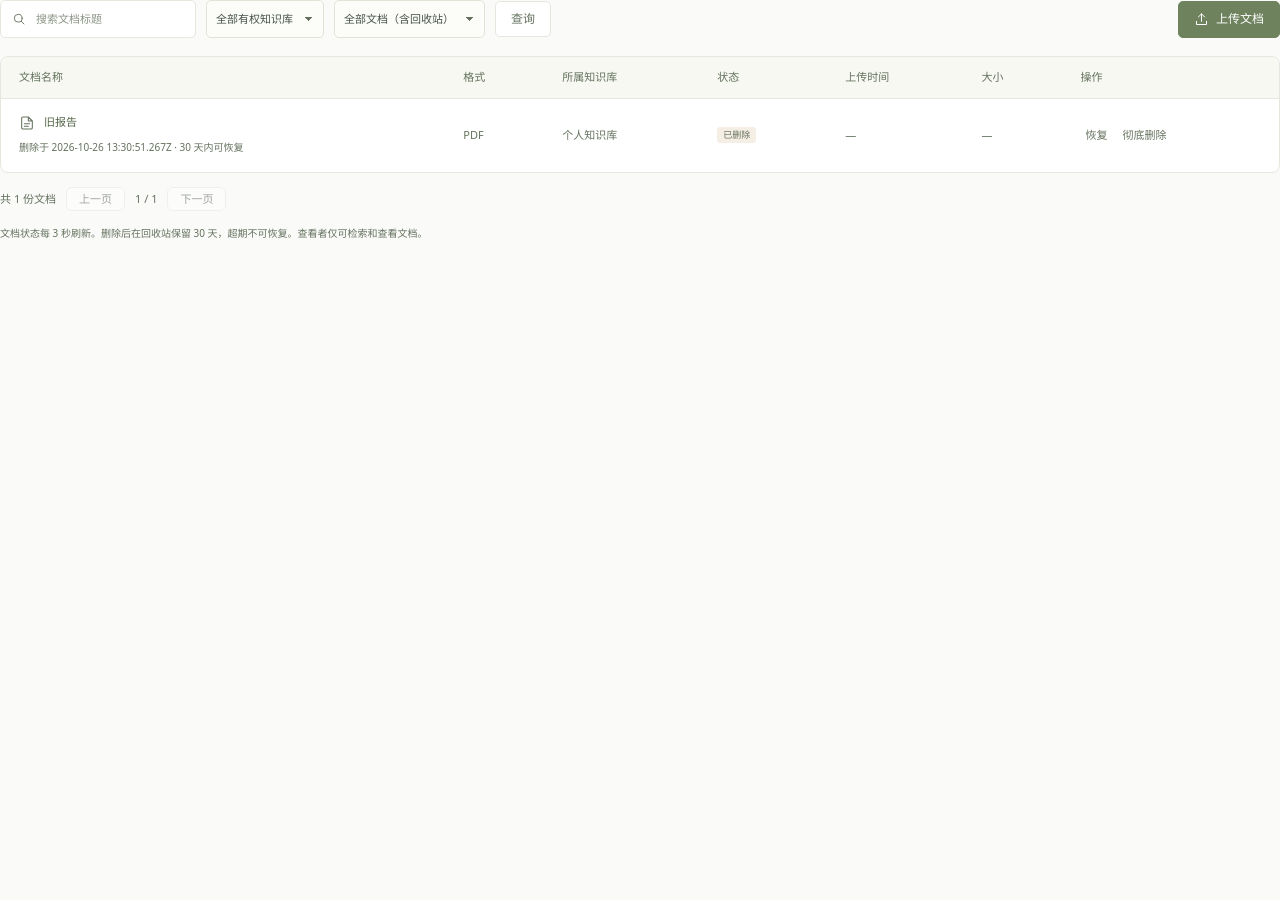
Scenario: 文档显示格式，彻底删除回收站文档需再次确认
Expected: the text "旧报告" is shown, [19, 114, 77, 131]
Expected: the column heading "格式" is shown, [445, 57, 544, 98]
Click the button "彻底删除". click: click(1144, 135)
box: [1118, 124, 1172, 146]
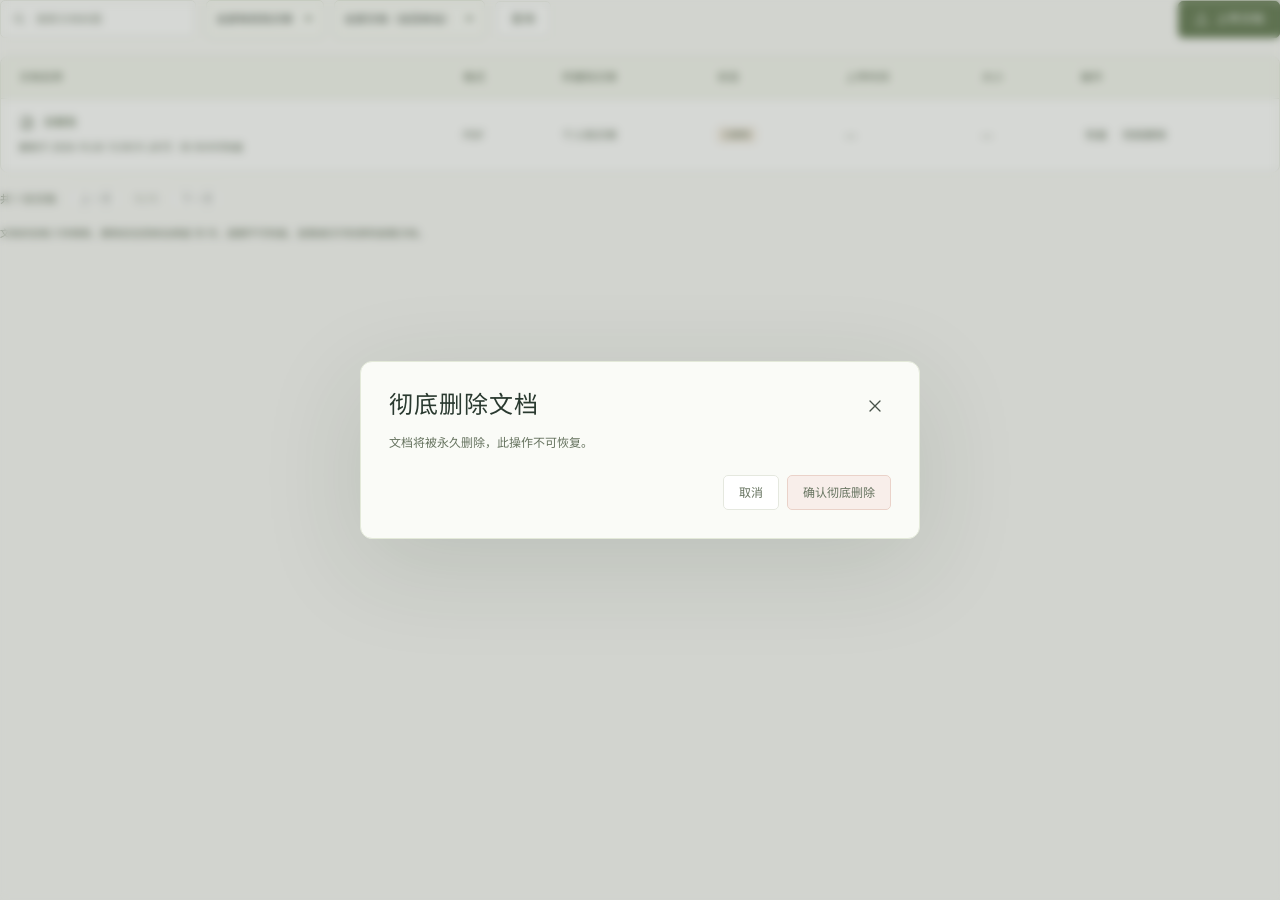
Click the button "确认彻底删除". click: click(839, 492)
box: [787, 474, 891, 510]
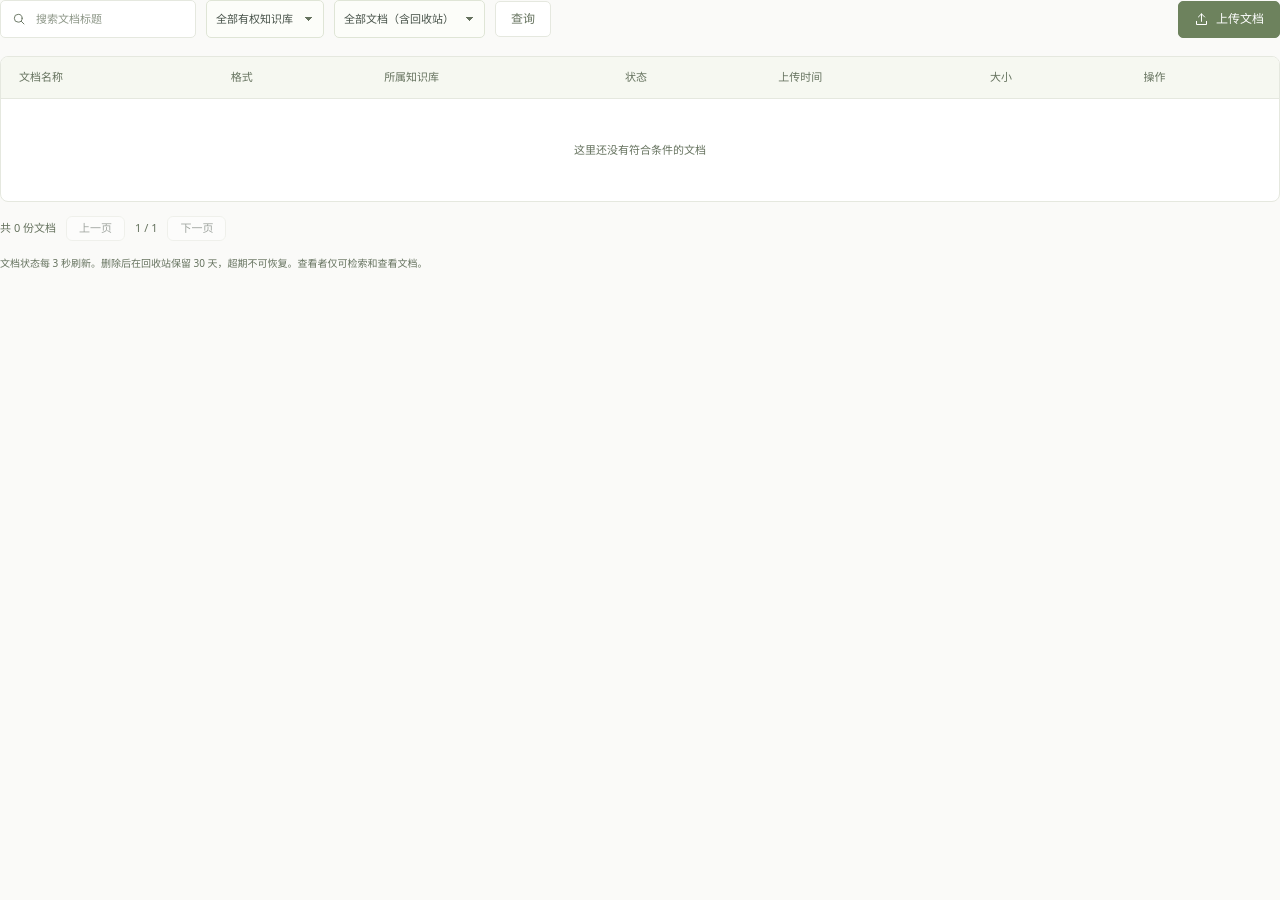
Expected: the text "旧报告" is gone
